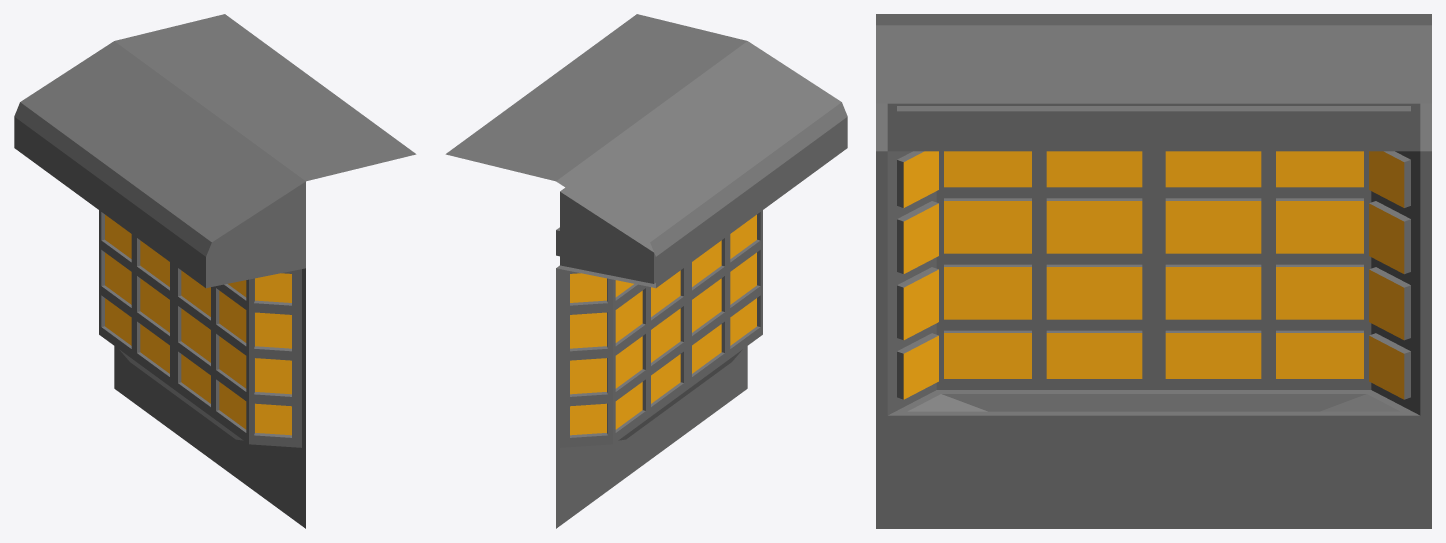
File: O1_Façade_Boutique_Oriel_Window_Droite 1.fbx
3 views of the same model, side by side, from view 1: azimuth 30°, elevation 25°; view 2: azimuth 150°, elevation 25°; view 3: azimuth 270°, elevation 25° (orthographic). The views are drawn at different scales.
Parts seen in each view (by area): view 1: O1_Façade_Boutique_Oriel_Window_Droite; view 2: O1_Façade_Boutique_Oriel_Window_Droite; view 3: O1_Façade_Boutique_Oriel_Window_Droite.
Boxes of the visible parts, x1,y1,x2,y2 form: O1_Façade_Boutique_Oriel_Window_Droite: (14,14,416,528); O1_Façade_Boutique_Oriel_Window_Droite: (445,14,847,528); O1_Façade_Boutique_Oriel_Window_Droite: (876,14,1431,528).
Size of the model in its own units: 1.9 by 3 by 3.
